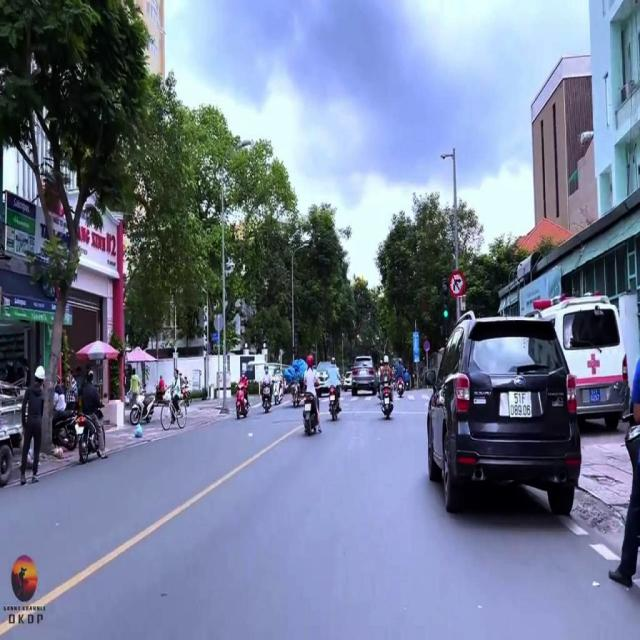cam_do_xe: (423, 341, 431, 352)
cam_re_phai: (450, 269, 466, 297)
